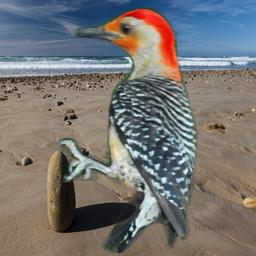Woodpecker: (59, 8, 203, 253)
